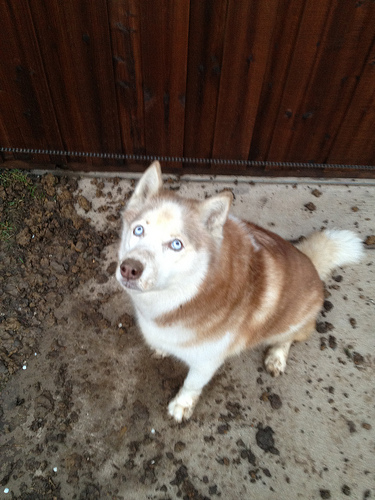dog: (111, 157, 361, 423)
